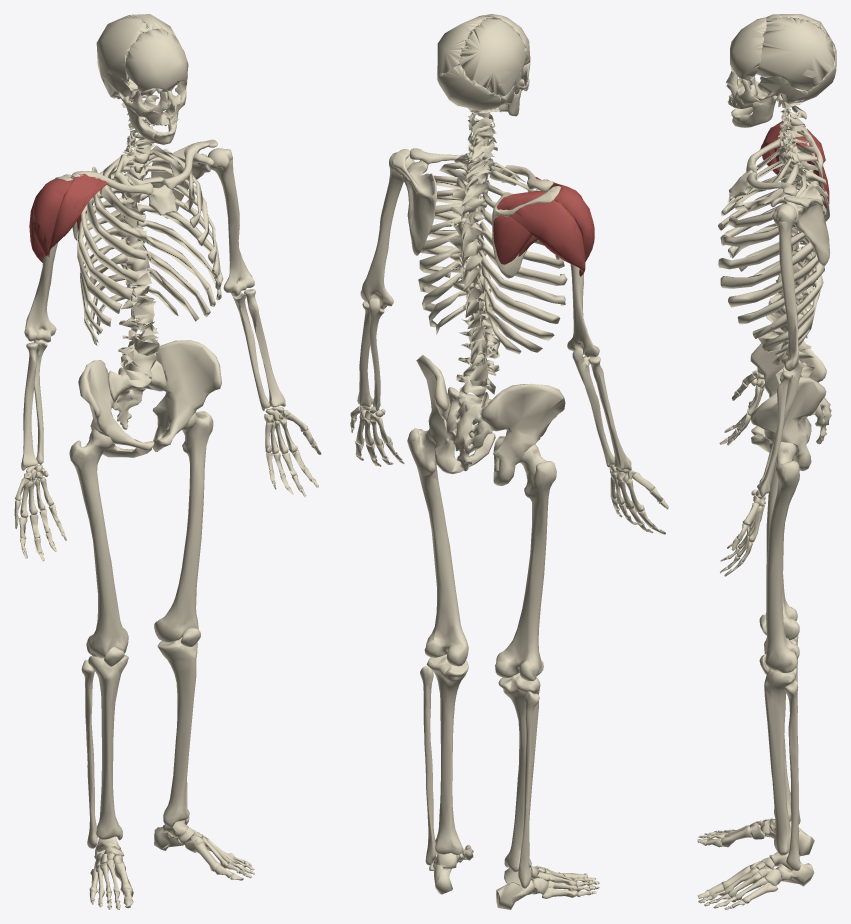
Rendered from body-balanced.glb.
3 renders of one model, left to right at view 1: azimuth 30°, elevation 25°; view 2: azimuth 150°, elevation 25°; view 3: azimuth 270°, elevation 25°, orthographic. The views are drawn at different scales.
Visible parts, largest first — view 1: bp3d.FMA7574, bp3d.FMA16585, bp3d.FMA9914, bp3d.FMA24474, bp3d.FMA24475, bp3d.FMA24478, muscle.deltoid, bp3d.FMA52734, bp3d.FMA24477, bp3d.FMA9613, bp3d.FMA23131, bp3d.FMA23914 (+18 smaller); view 2: bp3d.FMA7574, bp3d.FMA9914, bp3d.FMA16585, bp3d.FMA24474, bp3d.FMA24475, bp3d.FMA9613, muscle.deltoid, bp3d.FMA24478, bp3d.FMA24477, bp3d.FMA13396, bp3d.FMA16202, bp3d.FMA23131 (+14 smaller); view 3: bp3d.FMA7574, bp3d.FMA16585, bp3d.FMA9613, bp3d.FMA24475, bp3d.FMA9914, bp3d.FMA24478, bp3d.FMA23131, bp3d.FMA24491, bp3d.FMA13396, bp3d.FMA24481, bp3d.FMA52734, bp3d.FMA24492 (+18 smaller).
Part boxes in pixels (<box>): bp3d.FMA7574: <box>76,145,223,345</box>; bp3d.FMA16585: <box>78,340,221,457</box>; bp3d.FMA9914: <box>111,94,159,381</box>; bp3d.FMA24474: <box>69,429,128,658</box>; bp3d.FMA24475: <box>154,411,213,642</box>; bp3d.FMA24478: <box>157,637,197,827</box>; muscle.deltoid: <box>29,173,108,262</box>; bp3d.FMA52734: <box>125,28,188,93</box>; bp3d.FMA24477: <box>88,655,128,840</box>; bp3d.FMA9613: <box>96,14,177,81</box>; bp3d.FMA23131: <box>207,148,254,296</box>; bp3d.FMA23914: <box>14,429,321,561</box>; bp3d.FMA7574: <box>418,154,567,354</box>; bp3d.FMA9914: <box>448,107,500,399</box>; bp3d.FMA16585: <box>416,355,565,485</box>; bp3d.FMA24474: <box>495,444,556,680</box>; bp3d.FMA24475: <box>407,428,468,666</box>; bp3d.FMA9613: <box>437,15,527,96</box>; muscle.deltoid: <box>510,176,594,276</box>; bp3d.FMA24478: <box>426,654,468,854</box>; bp3d.FMA24477: <box>498,673,540,871</box>; bp3d.FMA13396: <box>392,149,437,255</box>; bp3d.FMA16202: <box>446,387,492,471</box>; bp3d.FMA23131: <box>360,152,414,309</box>; bp3d.FMA7574: <box>718,144,825,356</box>; bp3d.FMA16585: <box>750,340,826,470</box>; bp3d.FMA9613: <box>756,14,835,90</box>; bp3d.FMA24475: <box>765,441,799,672</box>; bp3d.FMA9914: <box>758,102,828,384</box>; bp3d.FMA24478: <box>764,668,796,855</box>; bp3d.FMA23131: <box>772,204,799,371</box>; bp3d.FMA24491: <box>749,818,814,886</box>; bp3d.FMA13396: <box>770,184,830,265</box>; bp3d.FMA24481: <box>784,680,800,870</box>; bp3d.FMA52734: <box>730,17,767,80</box>; bp3d.FMA24492: <box>721,821,777,903</box>.
Bounding box in the file's own units: 0.6476 × 1.71 × 0.2528.
